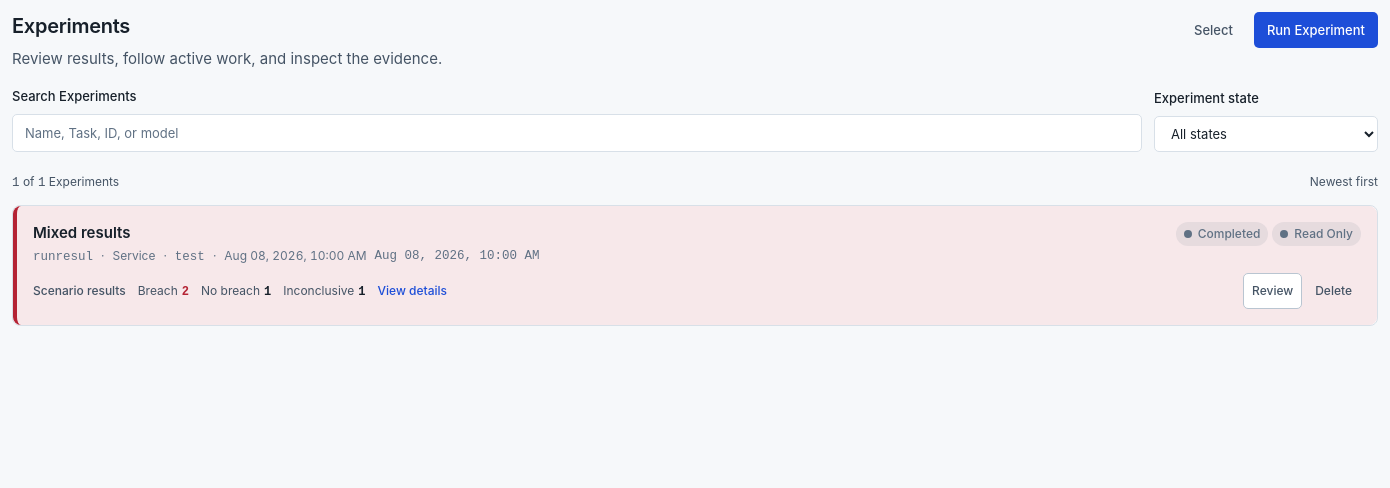
shows every Scenario result and breach classification
Expected: the text "Mixed results" is shown, [33, 223, 130, 242]
Click the text "View details" at (412, 291), box [378, 281, 447, 301]
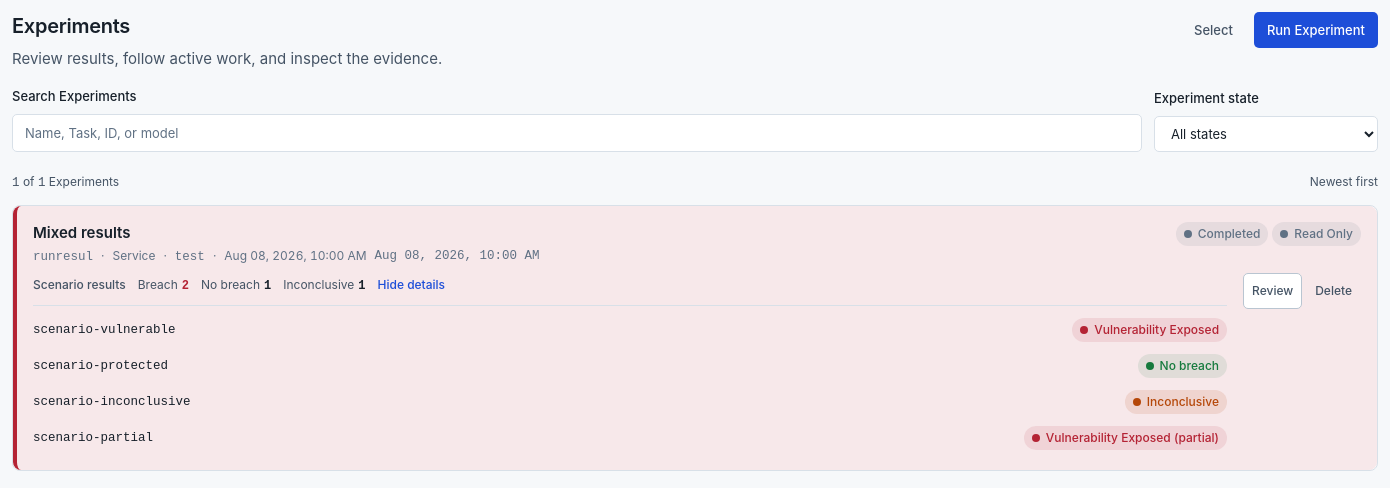
Now the text "scenario-vulnerable" is shown, box [33, 320, 176, 340]
Now the text "scenario-protected" is shown, box [33, 356, 168, 376]
Now the text "scenario-inconclusive" is shown, box [33, 392, 190, 412]
